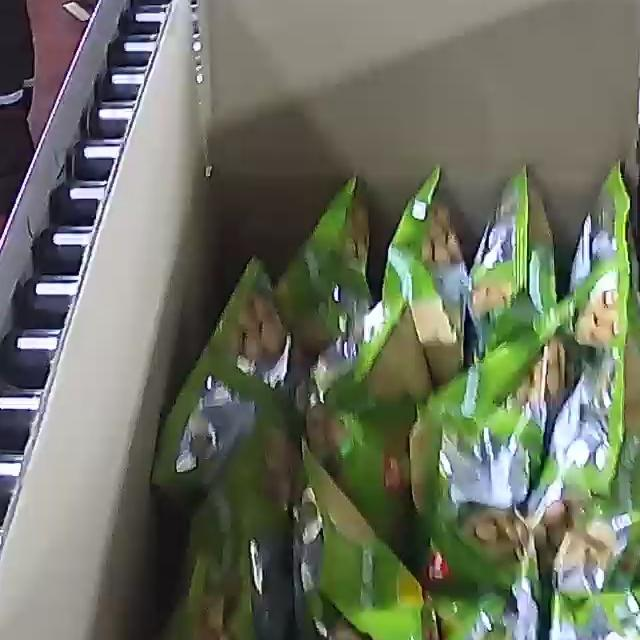yogurt: (146, 156, 640, 640)
